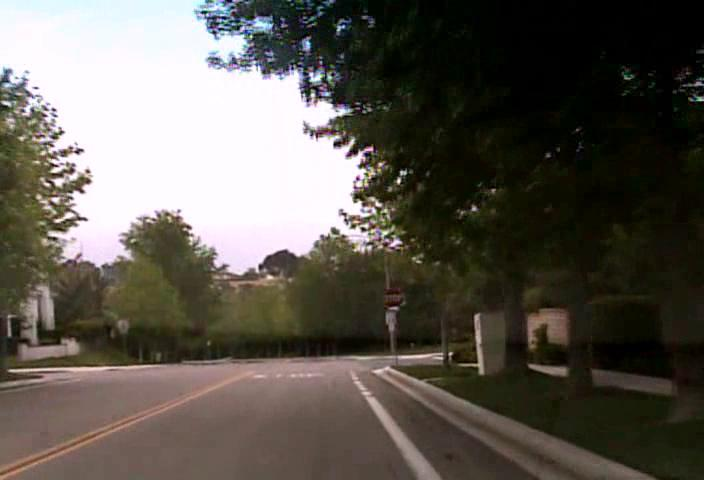stop: (382, 287, 403, 307)
